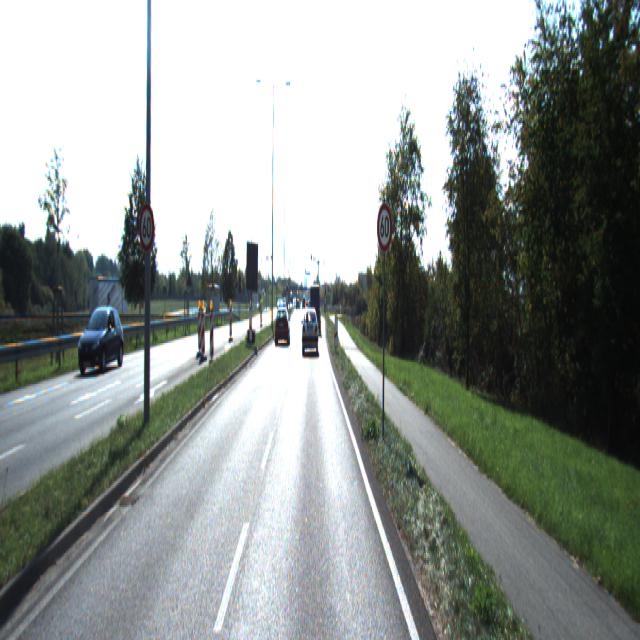Car: (77, 308, 124, 376), (302, 309, 318, 353), (274, 308, 290, 347), (310, 285, 320, 335)
